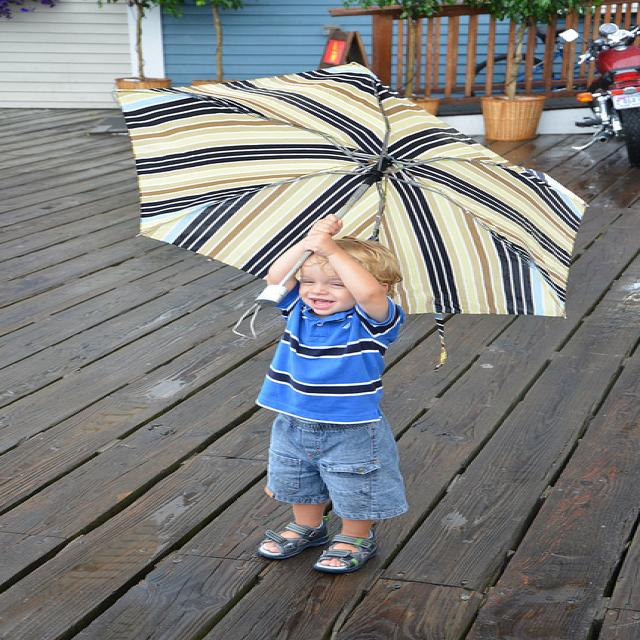motor: (547, 18, 640, 168)
